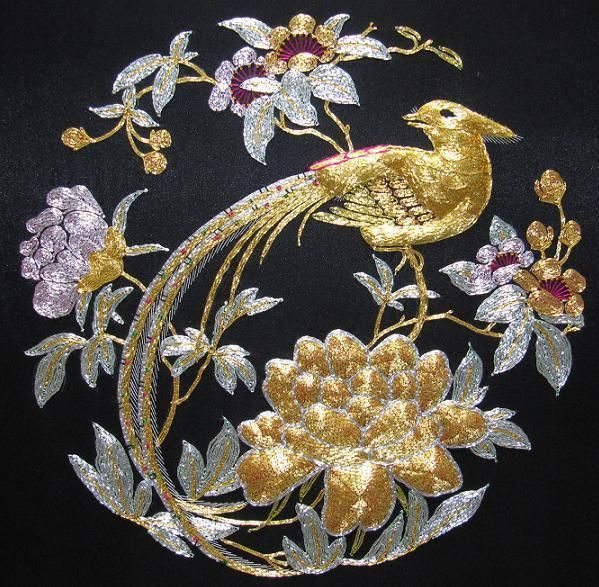bird: (124, 92, 528, 575)
flower: (237, 327, 535, 532), (218, 13, 394, 113), (474, 259, 587, 395), (17, 181, 125, 321), (205, 47, 289, 166), (439, 215, 533, 295)
